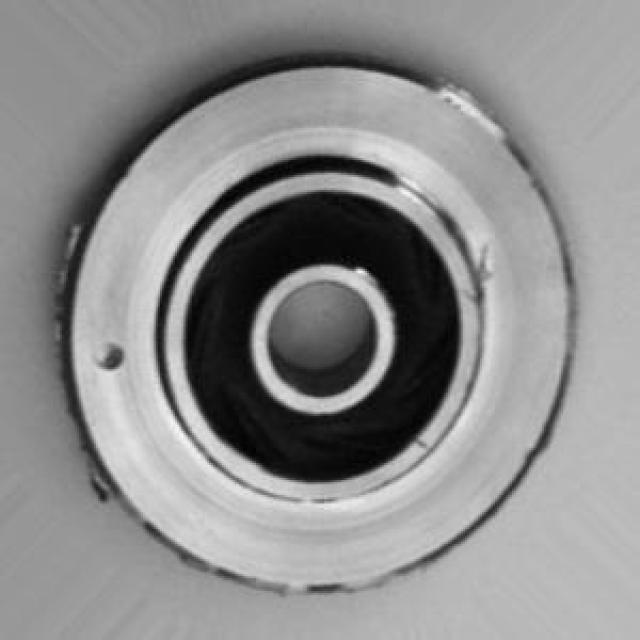Defect: (98, 340, 126, 374)
